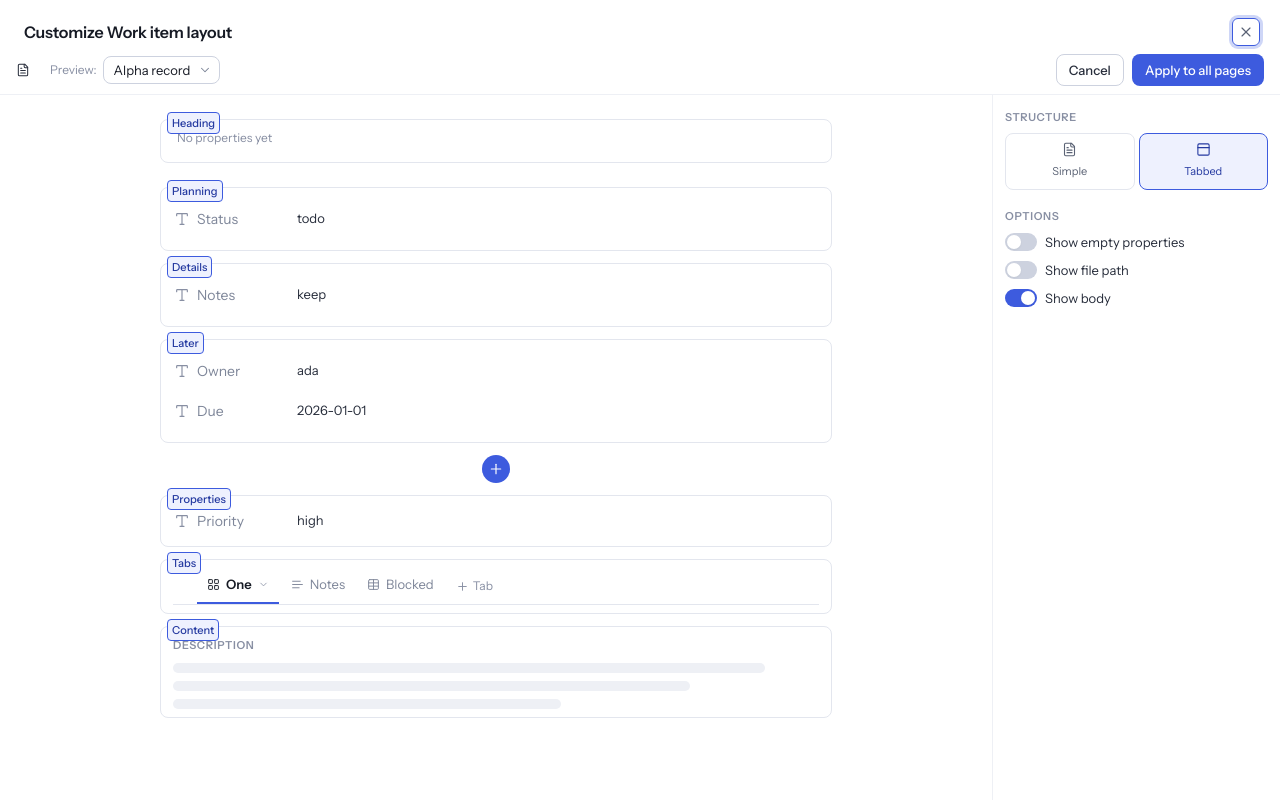
Test: properties stand above the tabs, on every tab (M46.1) › a sections tab keeps the stack and shows the free-text stand-in
Click the tab with test id "record-tab-s1" at (318, 586), box [281,568,355,604]
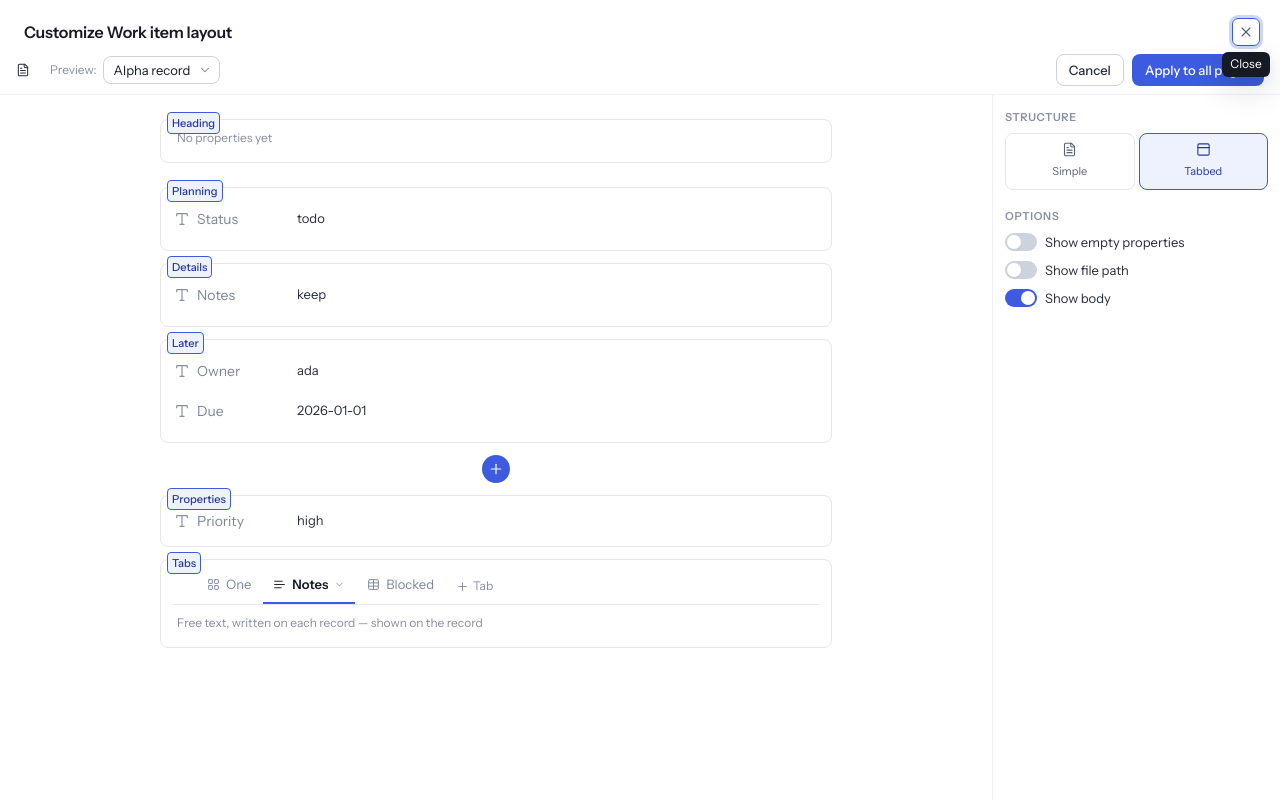
Result: the text with test id "layout-preview-sectionstab" reads "Free text, written on each record — shown on the record" at [177,615,483,630]
Result: the element with test id "layout-preview-body" is gone
